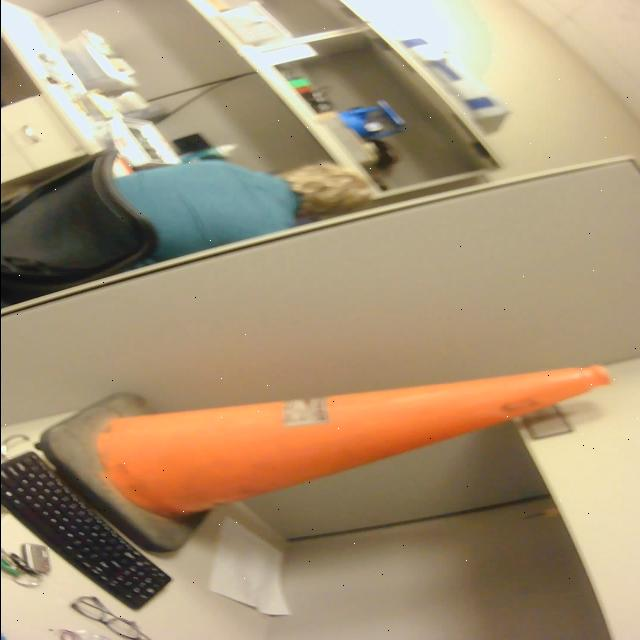traffic cone: (33, 359, 619, 557)
